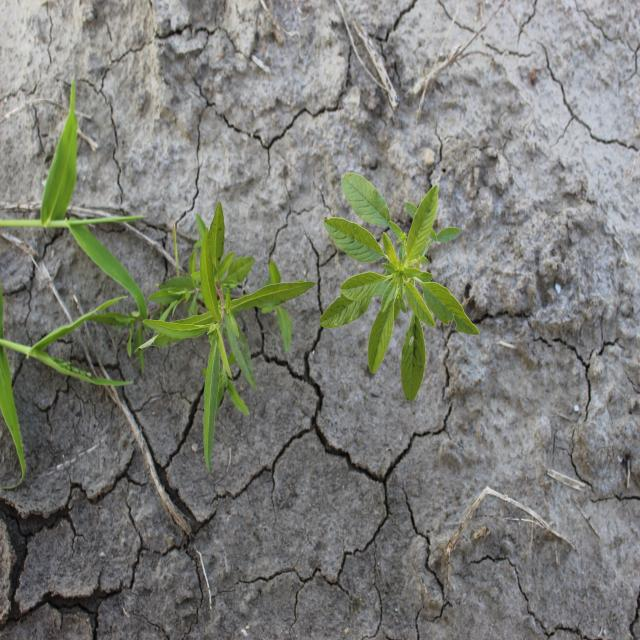Eclipta: (114, 200, 317, 475)
Waterhemp: (319, 171, 480, 405)
